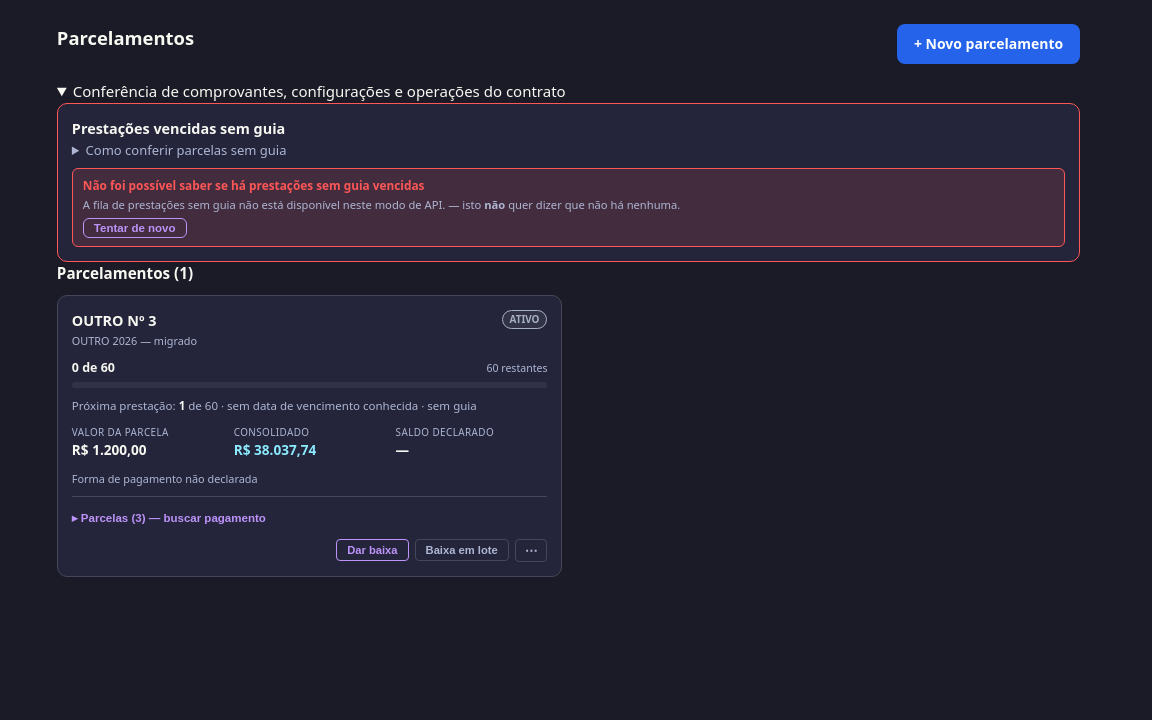
Scenario: o 'Dar baixa' do card responde mesmo quando não há o que baixar › fila vazia para aquele contrato: diz que não há nenhuma, e por quê
Click the button titled "Vai para a fila de parcelas pagas aguardando lançamento, no topo desta aba.".
click(372, 550)  # box left=336, top=538, right=409, bottom=560
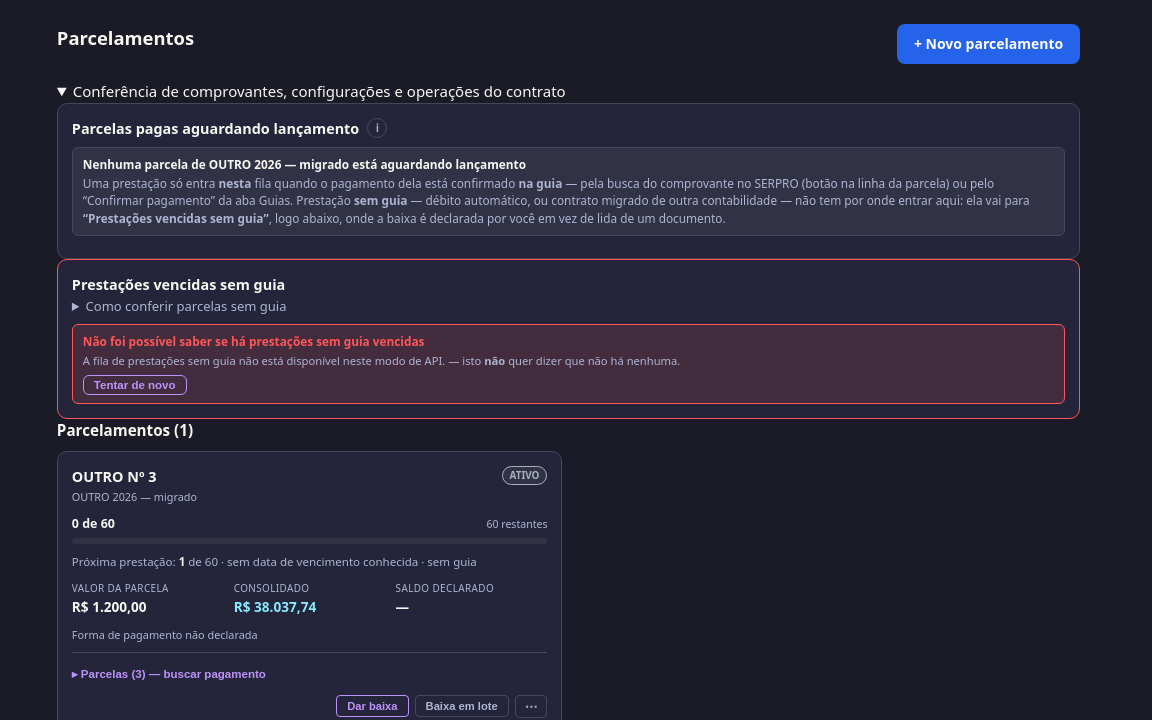
expect the text "Nenhuma parcela de OUTRO 2026" is shown: met, box left=83, top=156, right=526, bottom=172
expect the text "onde a baixa é declarada por você" is shown: met, box left=269, top=210, right=726, bottom=226
